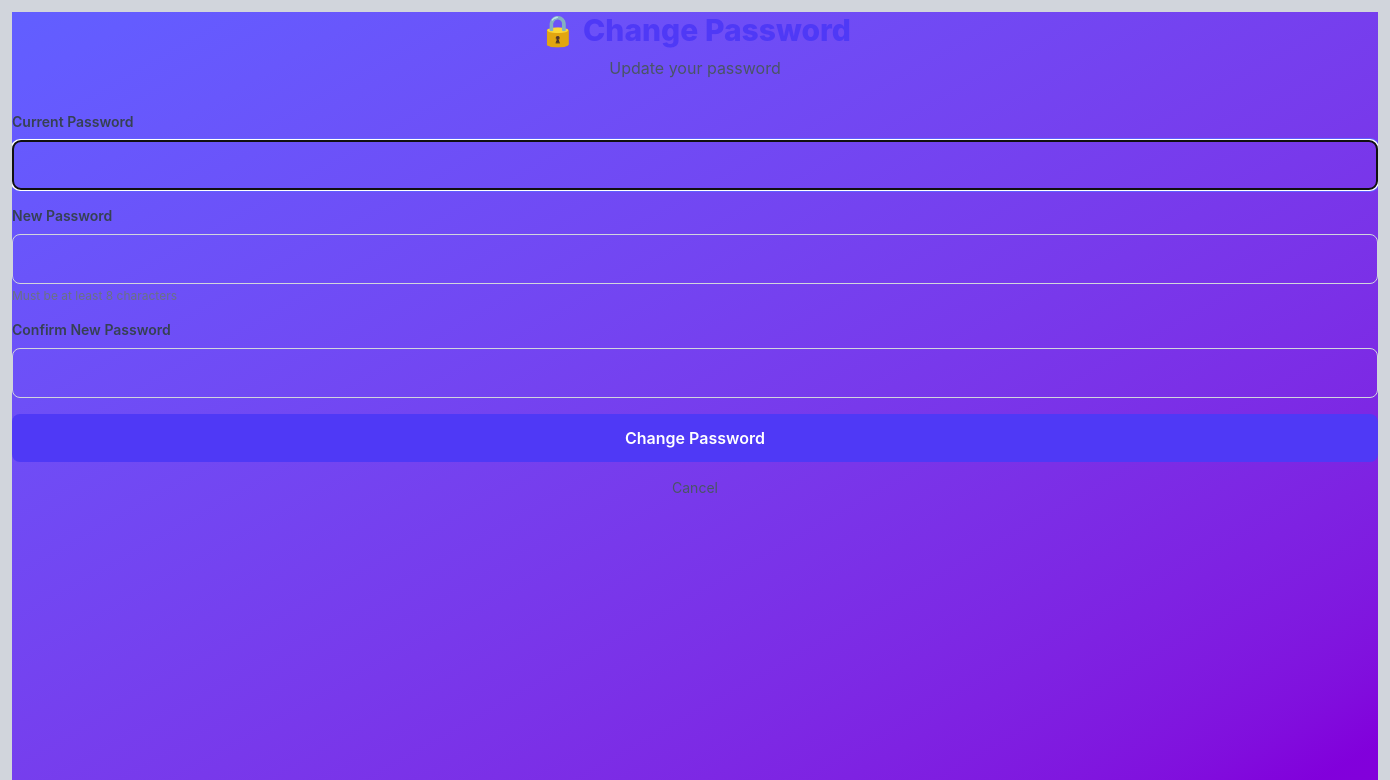
Scenario: ChangePasswordPage › validates passwords match
Type "oldpass123" into the password field labelled "Current Password".
click(695, 165); type("oldpass123")  # box x1=12 y1=140 x2=1378 y2=190
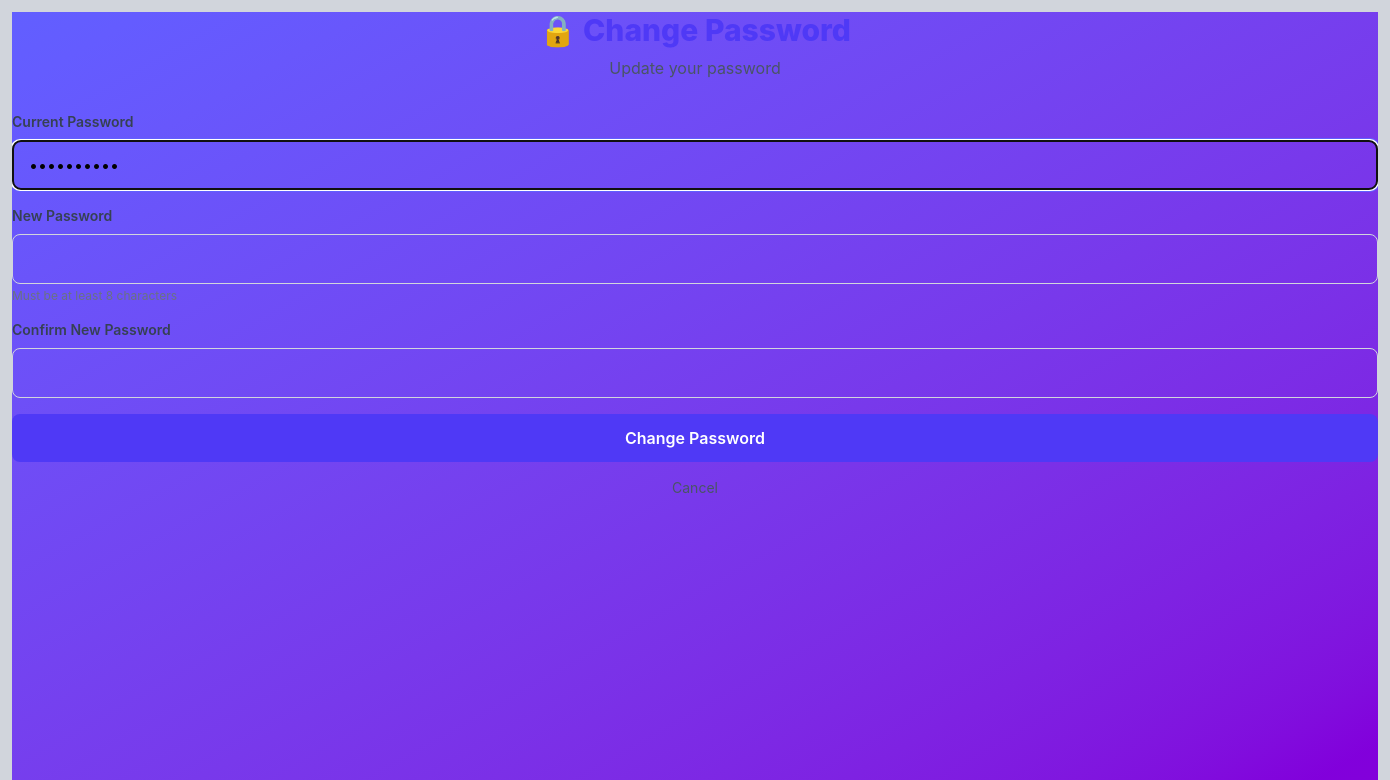
Type "newpass123" into the password field labelled "New Password".
click(695, 259); type("newpass123")  # box x1=12 y1=234 x2=1378 y2=284
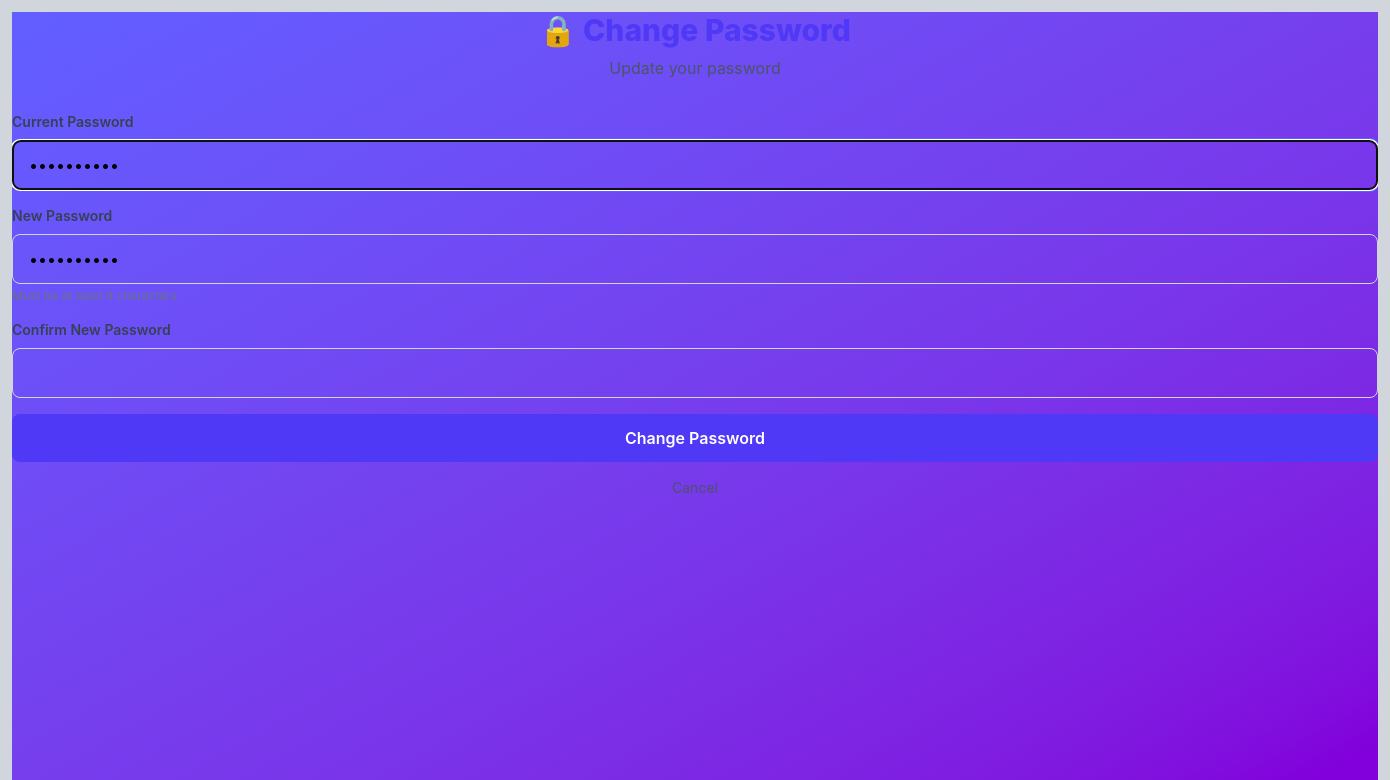
Type "different123" into the password field labelled "Confirm New Password".
click(695, 373); type("different123")  # box x1=12 y1=348 x2=1378 y2=398
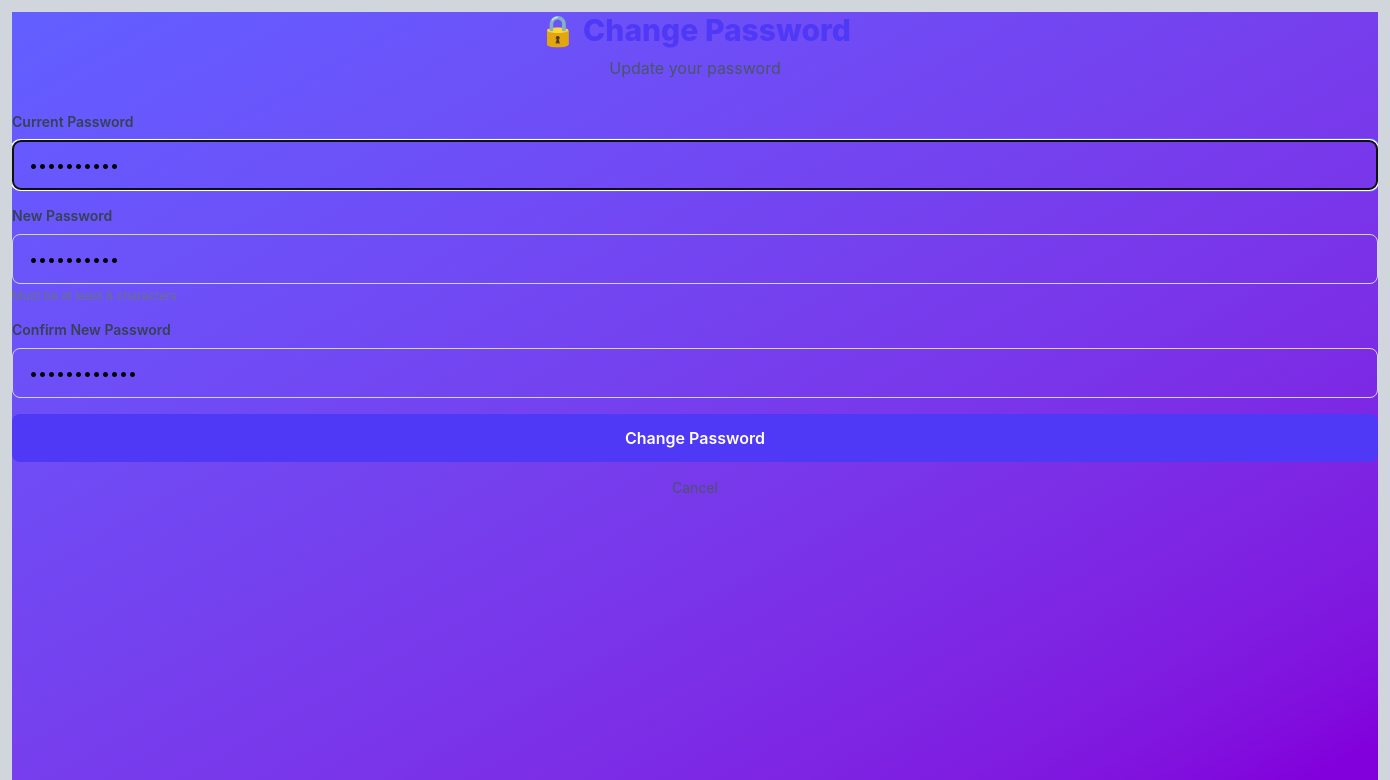
Click the button "Change Password".
click(695, 438)  # box x1=12 y1=414 x2=1378 y2=462
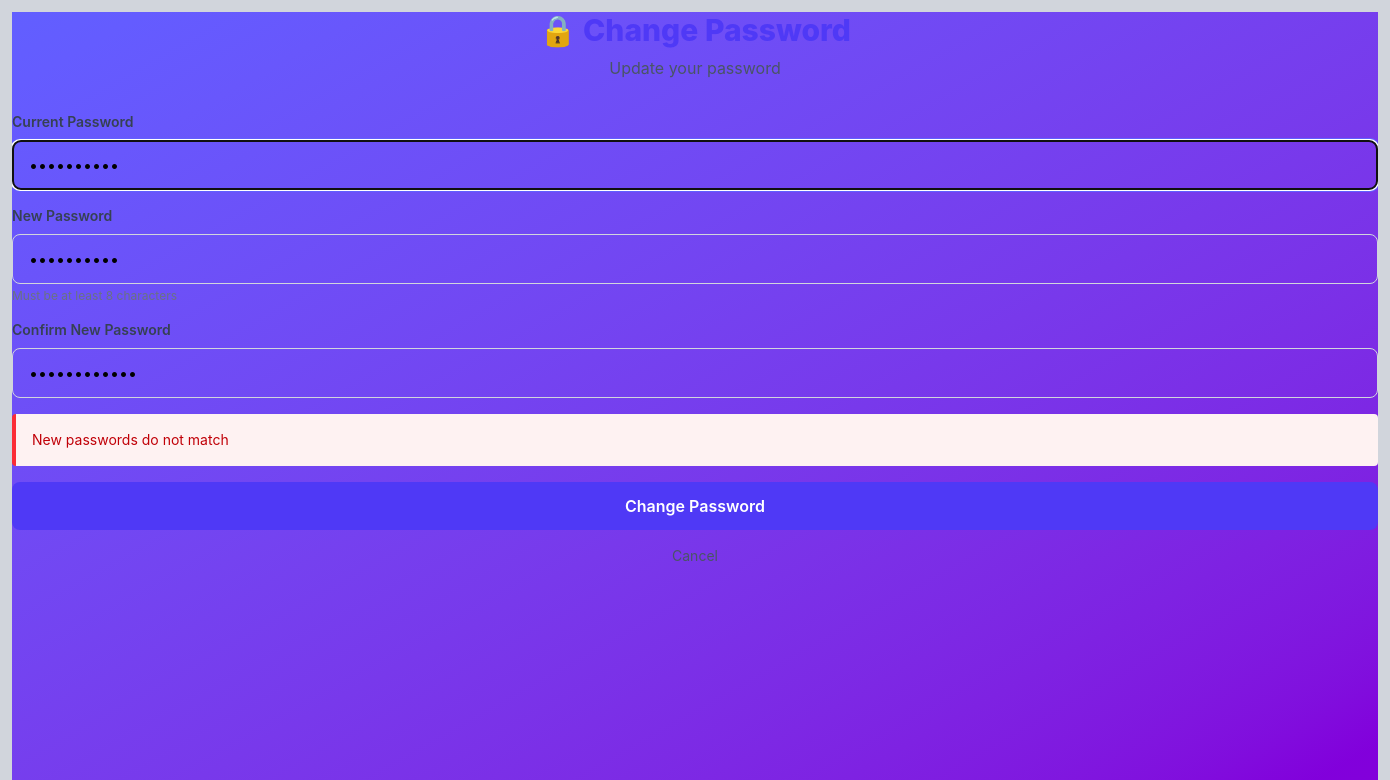
Check: the text "New passwords do not match" is shown, box x1=32 y1=431 x2=229 y2=448
